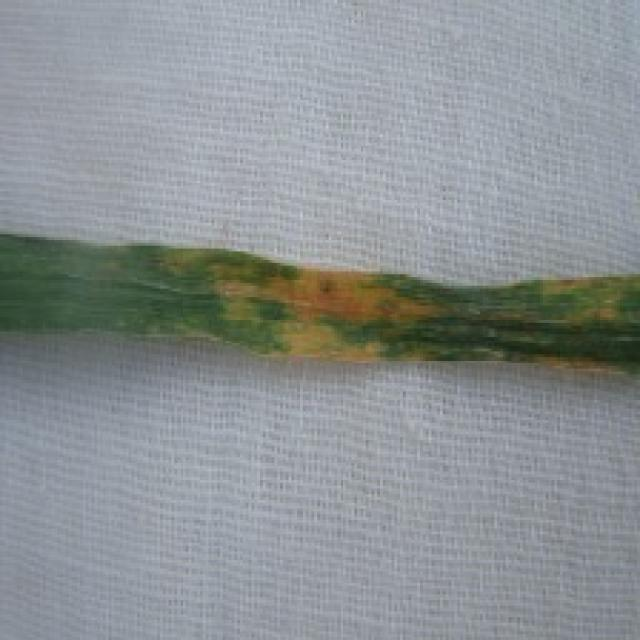Bacterial_Blight: (154, 248, 476, 367), (518, 277, 640, 371)
